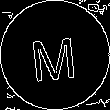M_N: (29, 28, 81, 83)
